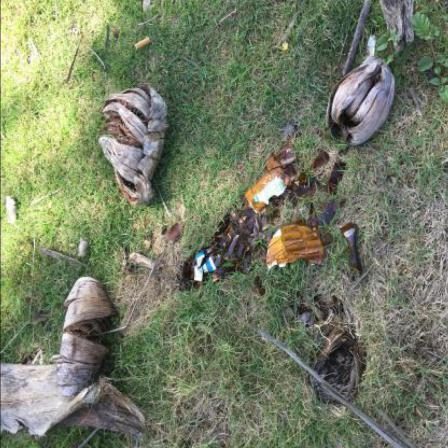Broken glass: (181, 144, 347, 294), (340, 223, 363, 273), (305, 151, 330, 173)
Cigarette: (136, 37, 152, 51)
